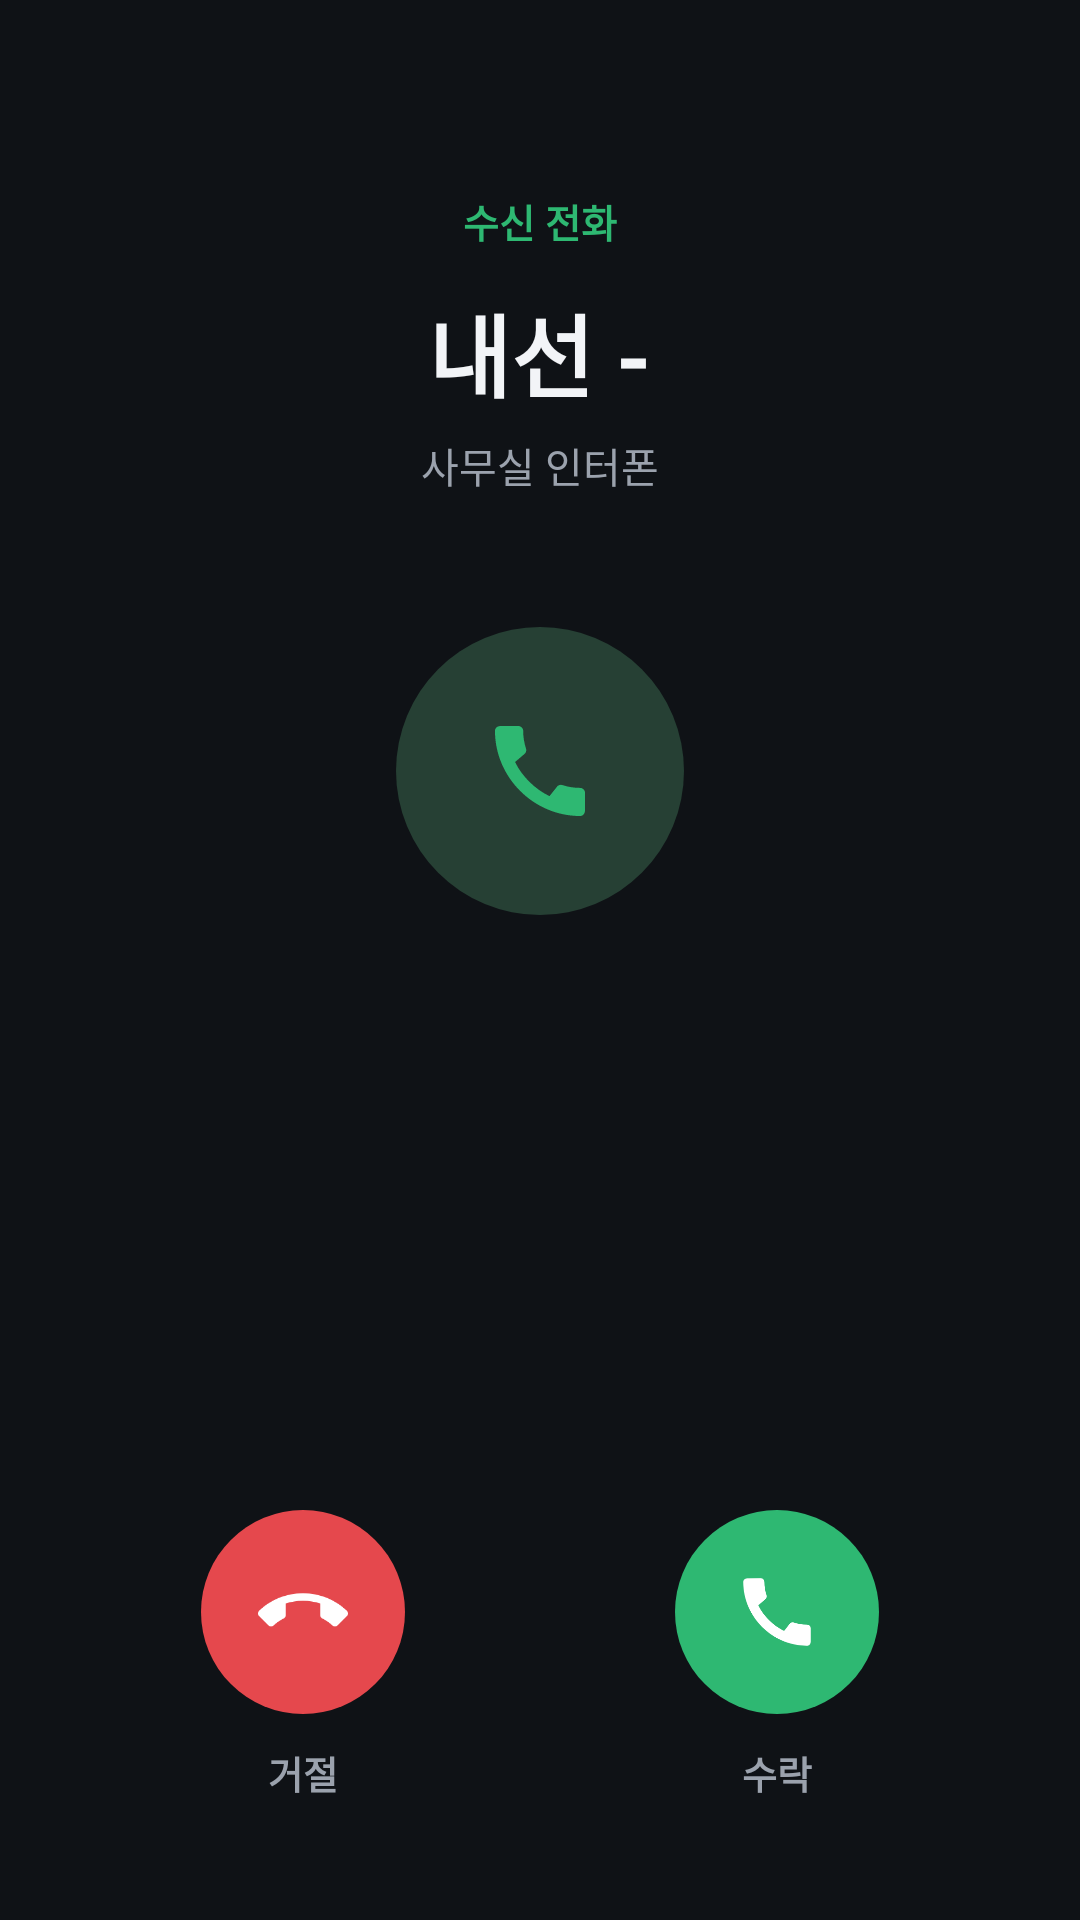

Where to tap for icons on this 1080×1920 app screen, as (x,y):
수신: (540,771)
